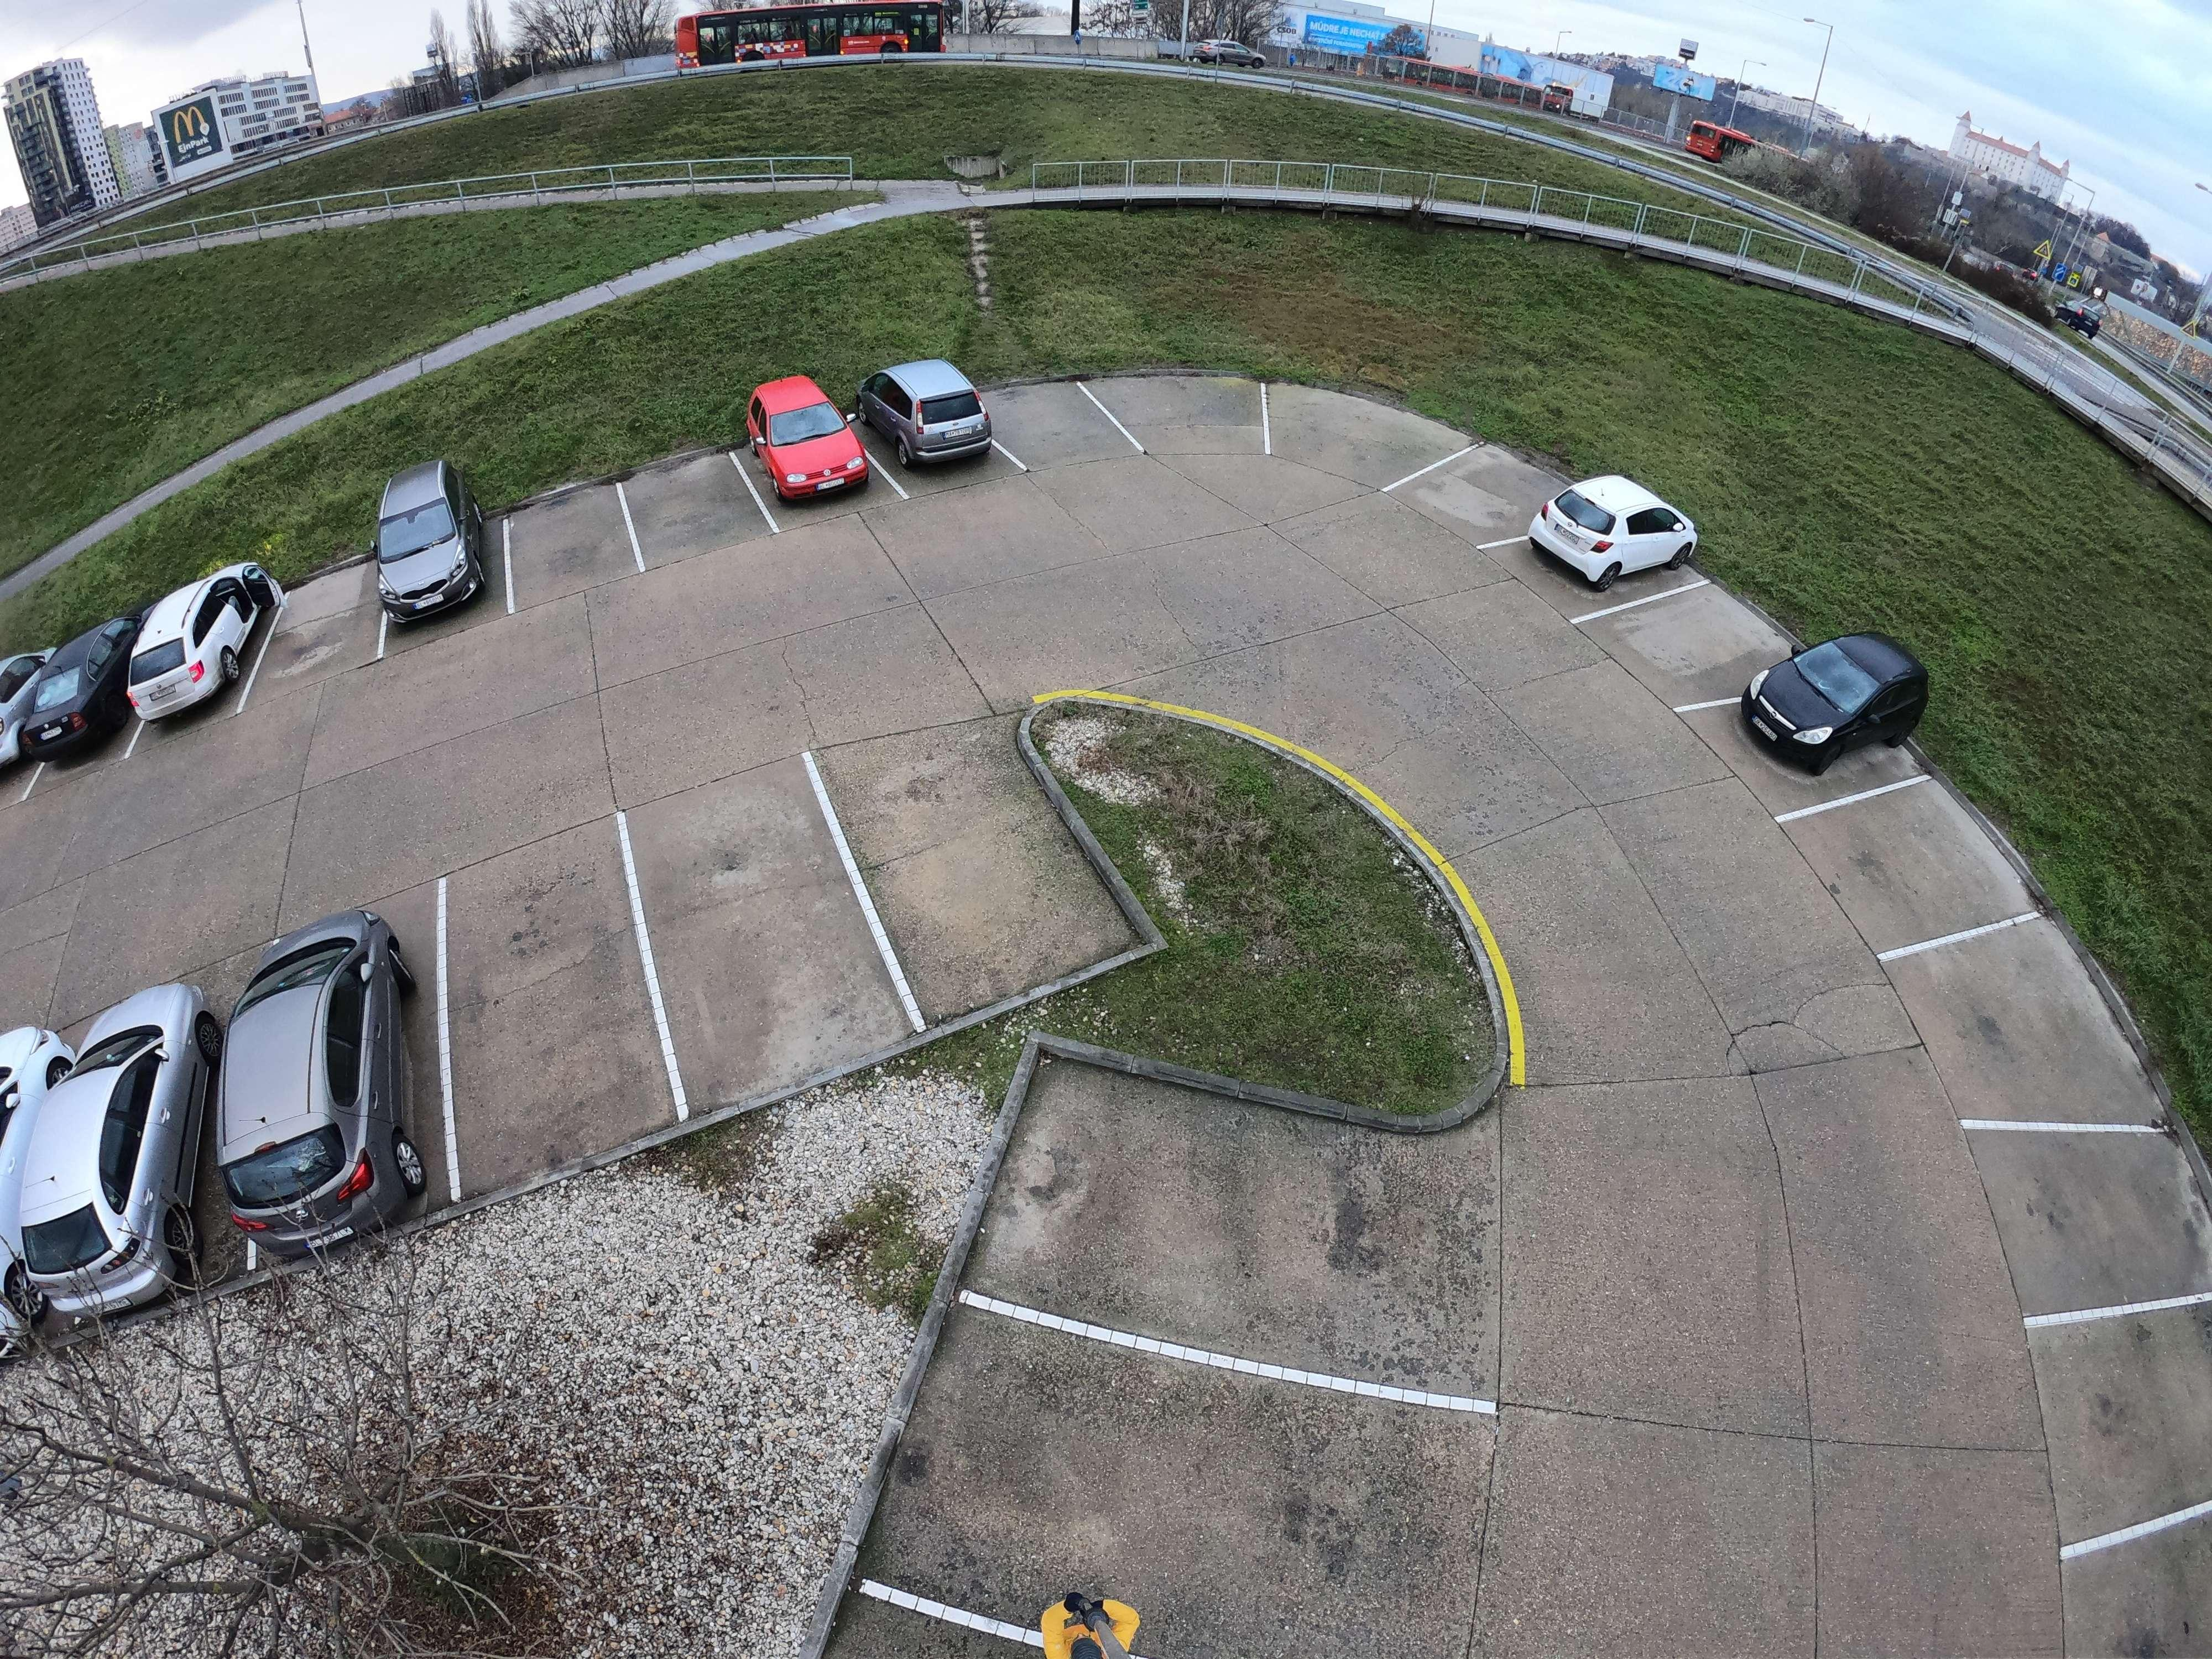empty: (185, 903, 425, 1244), (2, 985, 212, 1317), (1740, 626, 1923, 765), (355, 462, 502, 624), (124, 568, 268, 728), (732, 362, 881, 514), (1527, 469, 1709, 591), (860, 357, 1014, 474), (10, 640, 124, 763)
occupied: (975, 1424, 1305, 1654), (1078, 1084, 1299, 1361), (456, 934, 648, 1091), (669, 875, 857, 1012), (2010, 1133, 2167, 1279), (2080, 1335, 2209, 1506), (1952, 967, 2106, 1107), (887, 810, 1054, 924), (1858, 802, 1991, 927), (1648, 608, 1750, 676), (282, 586, 371, 660), (1287, 413, 1395, 465), (650, 481, 740, 542), (1136, 390, 1237, 441), (1442, 476, 1533, 530), (528, 512, 608, 573), (1008, 406, 1090, 448)
